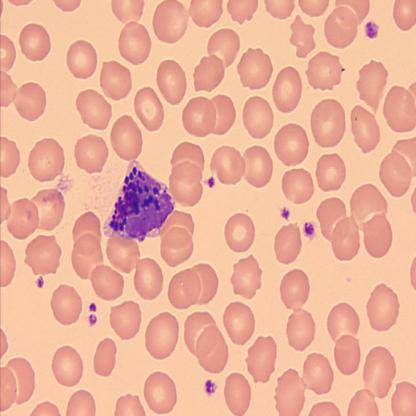Basophil: (102, 156, 176, 246)
